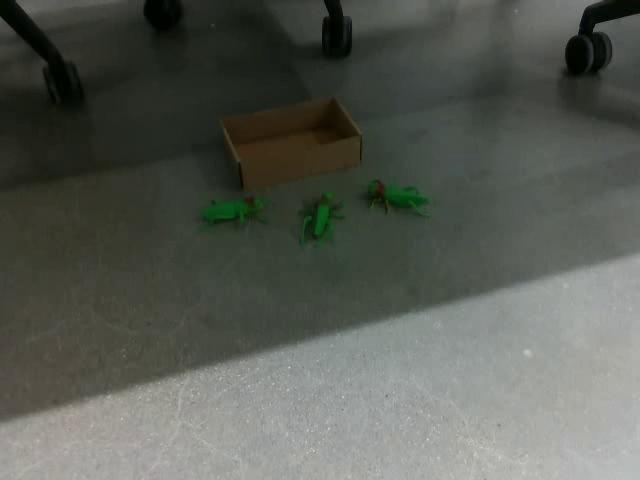box: (219, 94, 363, 192)
grasshopper: (365, 177, 431, 217), (297, 190, 344, 246), (200, 193, 269, 226)
